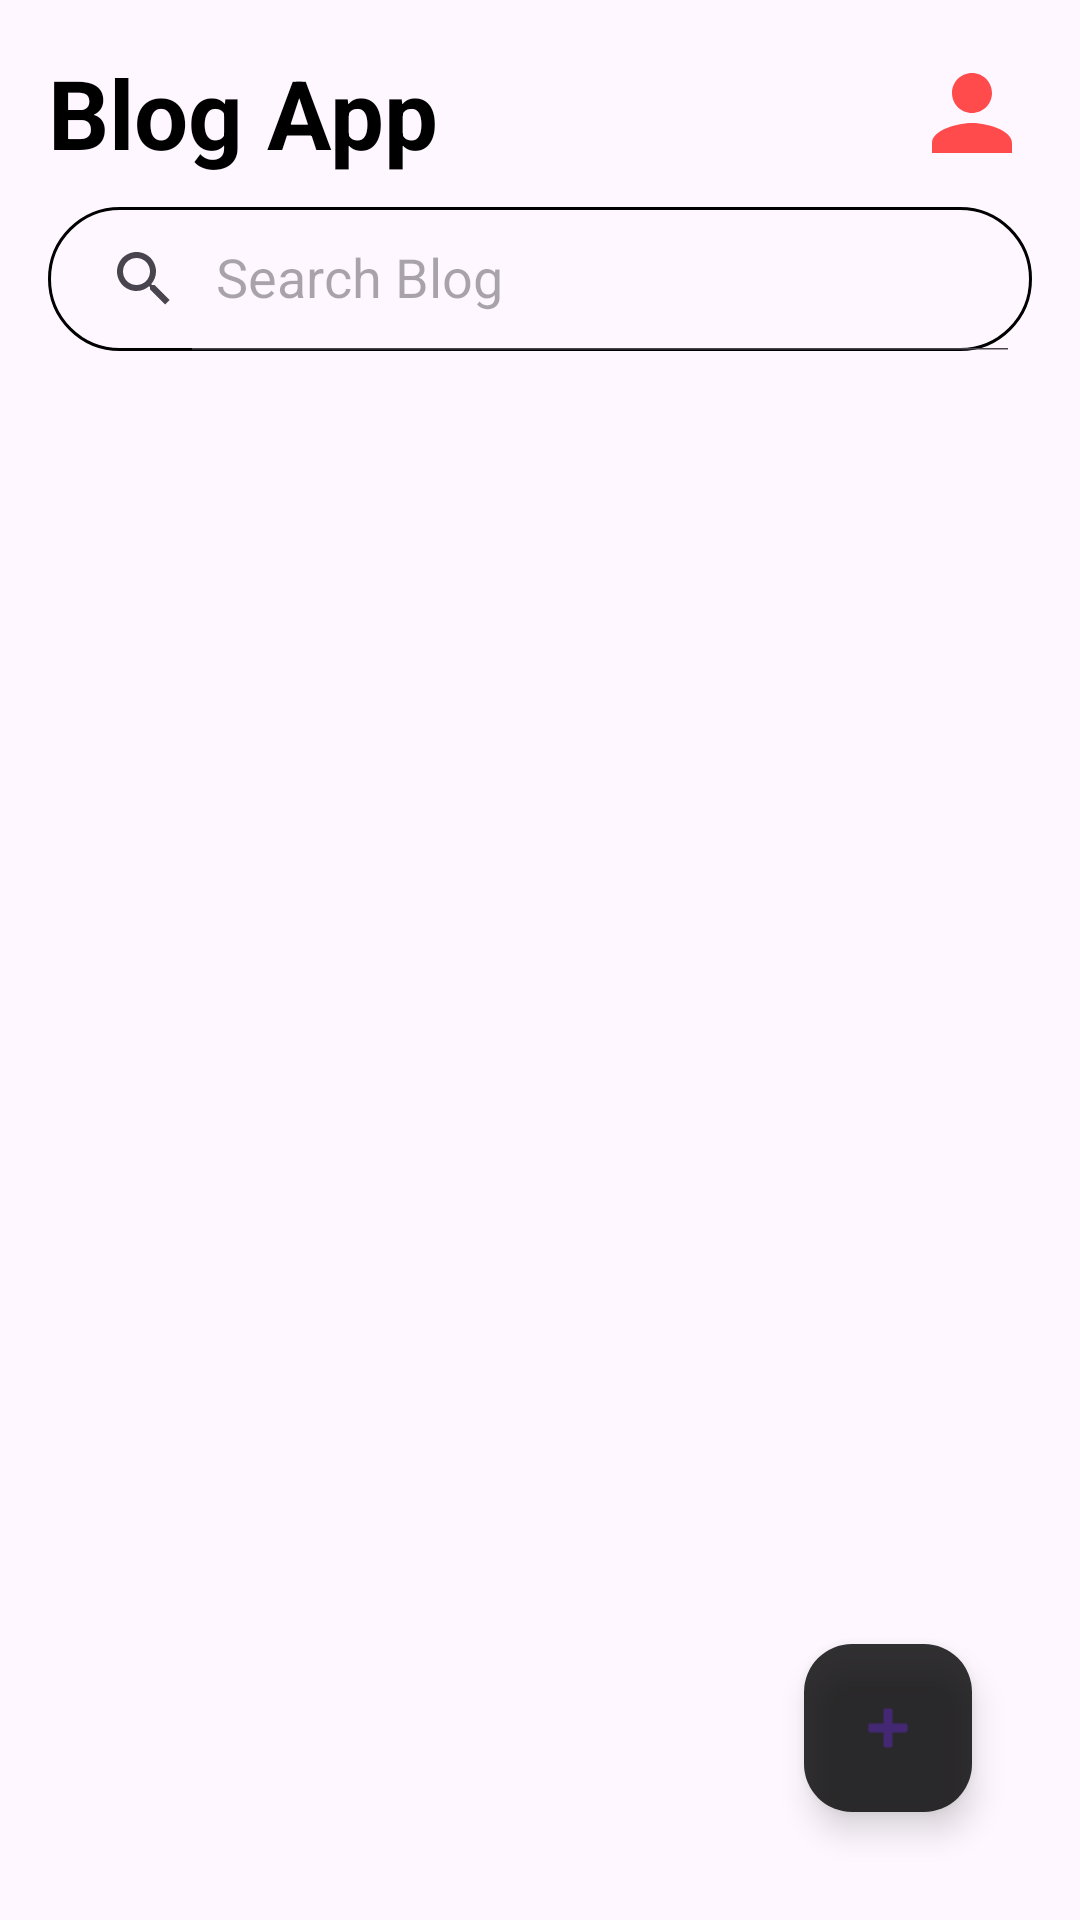

Named icons in this screenshot (1080×1920) and their centers, point (x, y):
add: point (888, 1728)
person: point (972, 113)
